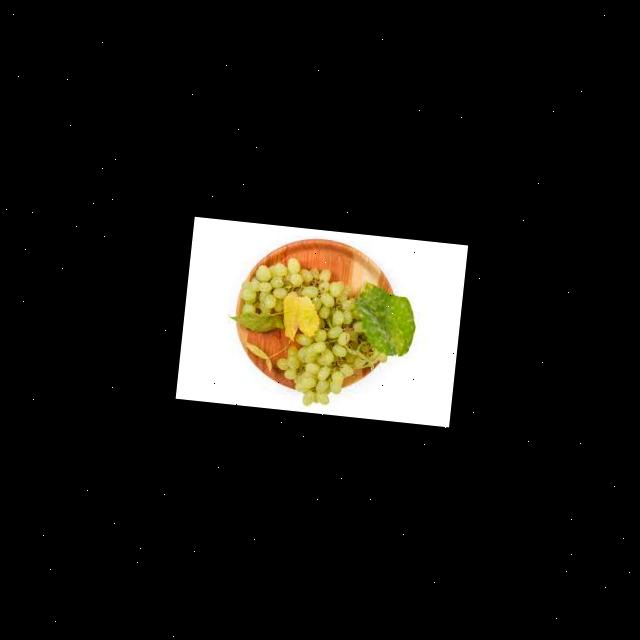grape: (222, 251, 396, 414)
